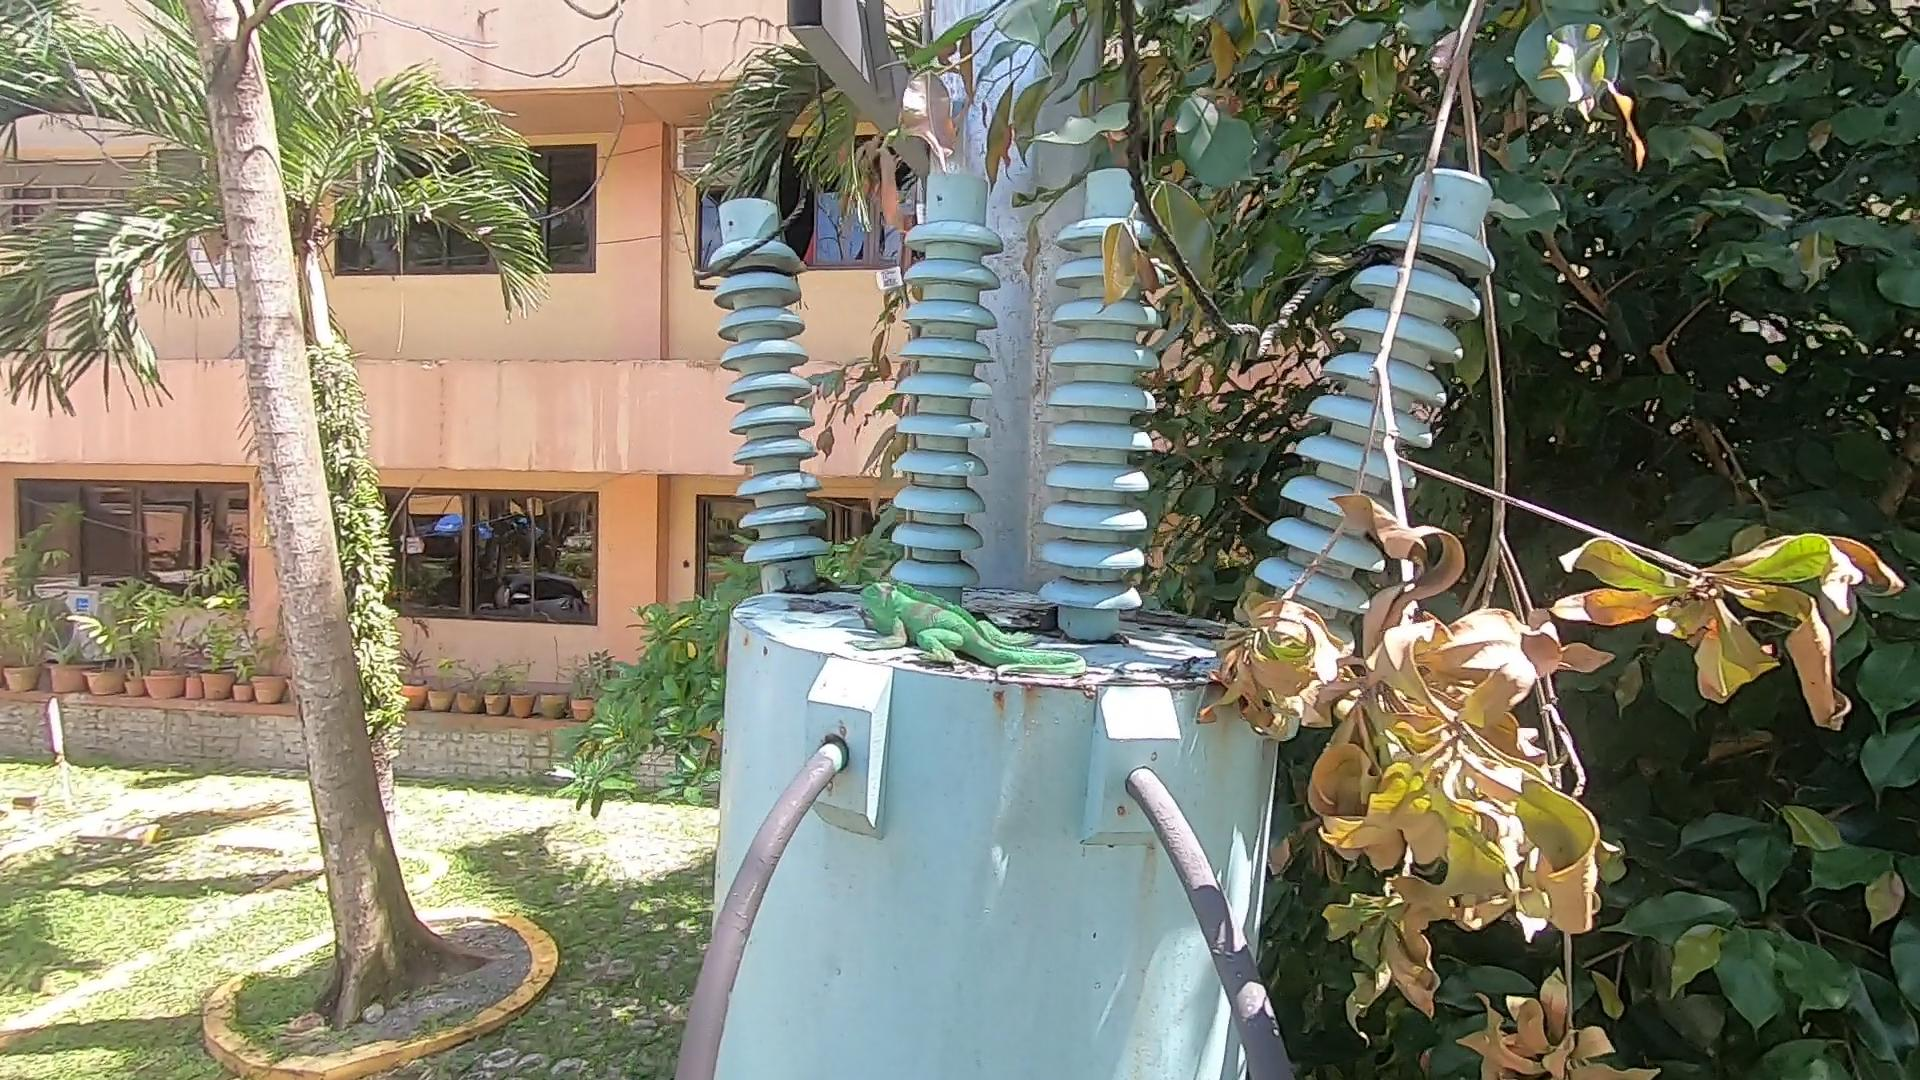branch with leaves: (1196, 11, 1908, 1075)
